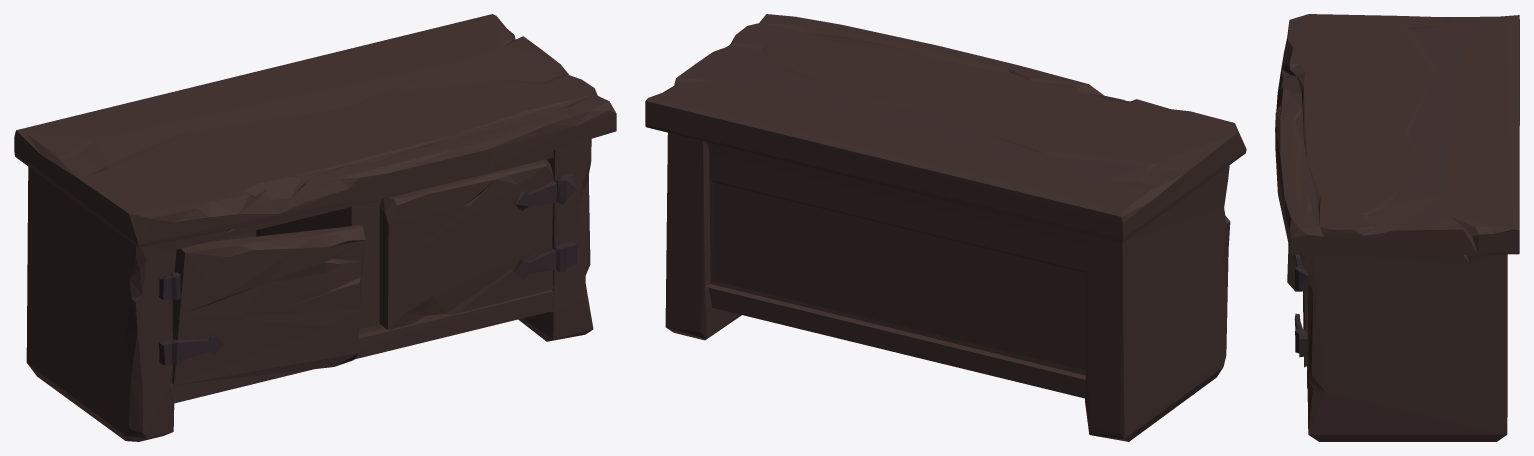
The model's file is MDungeon_Cupboard_01.FBX.
3 views of the same model, side by side, from view 1: azimuth 30°, elevation 25°; view 2: azimuth 150°, elevation 25°; view 3: azimuth 270°, elevation 25° (orthographic). The views are drawn at different scales.
Visible parts, largest first — view 1: MDungeon_Cupboard_01_LOD0; view 2: MDungeon_Cupboard_01_LOD0; view 3: MDungeon_Cupboard_01_LOD0.
Boxes of the visible parts, bbox=[...] form: MDungeon_Cupboard_01_LOD0: bbox=[14, 14, 616, 441]; MDungeon_Cupboard_01_LOD0: bbox=[645, 14, 1246, 441]; MDungeon_Cupboard_01_LOD0: bbox=[1275, 14, 1519, 441].
Size of what is drawn, in the model's own units: 1.49 by 0.7069 by 0.7119.
Materials: 1 (1 with a texture image).
